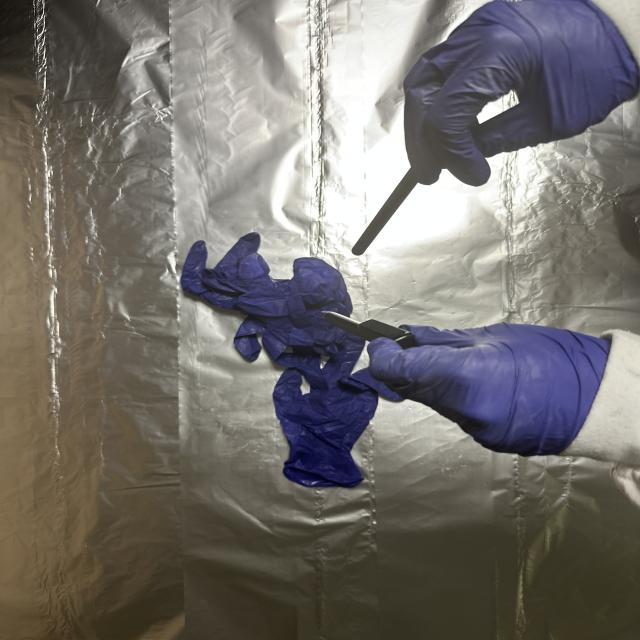gloves_contaminated: (404, 0, 639, 185), (368, 324, 610, 455)
